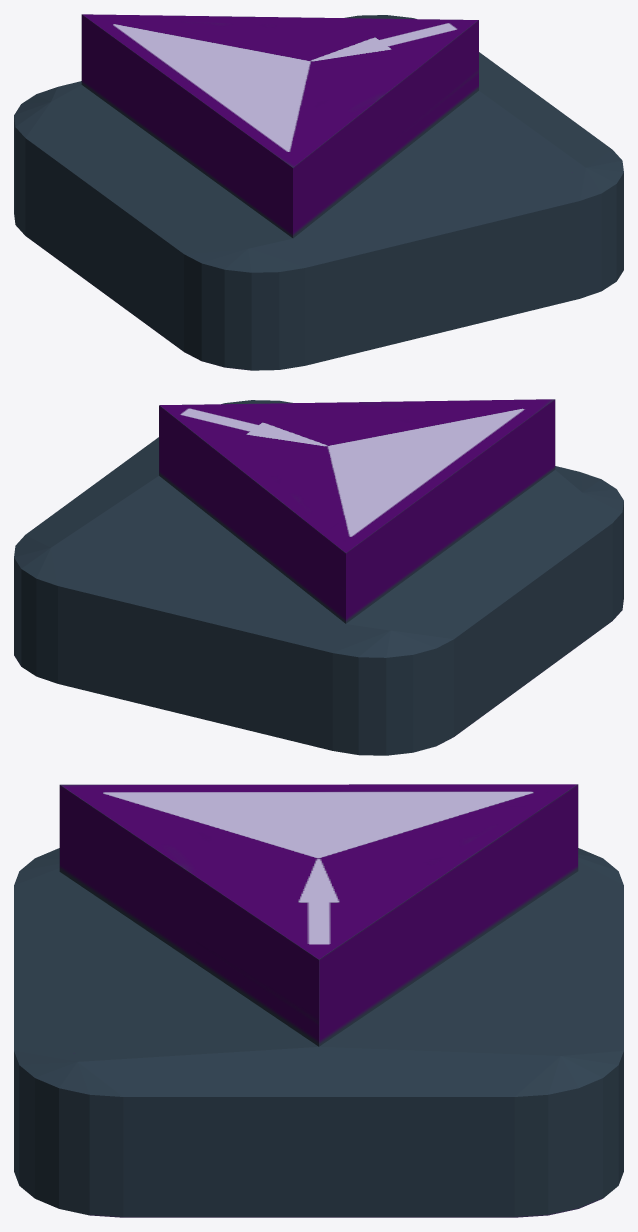
The model's file is triangle.obj.
3 renders of one model, top to bottom at view 1: azimuth 30°, elevation 25°; view 2: azimuth 150°, elevation 25°; view 3: azimuth 270°, elevation 25°, orthographic. The views are drawn at different scales.
Visible parts, largest first — view 1: 立方体; view 2: 立方体; view 3: 立方体.
Boxes of the visible parts, box(x1,y1,x2,y2) form: 立方体: box(14, 14, 623, 370); 立方体: box(14, 399, 623, 755); 立方体: box(14, 784, 623, 1217).
Size of the model in its own units: 0.4 by 0.1629 by 0.4.
1 material, 1 textured.
